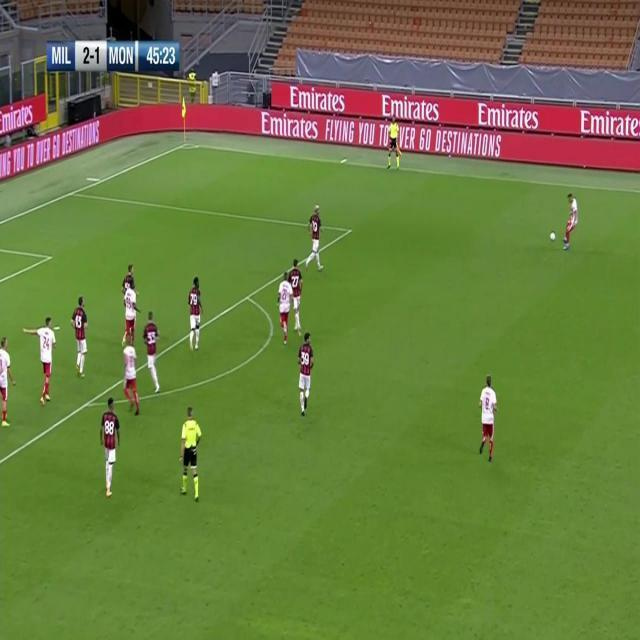ball: (549, 228, 557, 243)
player: (25, 314, 59, 408), (178, 403, 202, 503), (100, 397, 122, 501), (476, 373, 498, 464), (143, 312, 163, 395), (70, 295, 89, 382), (297, 330, 315, 420), (304, 203, 325, 275), (122, 341, 141, 416), (0, 335, 15, 429), (187, 275, 204, 355), (122, 276, 140, 345), (276, 272, 292, 345), (561, 191, 580, 251), (290, 259, 305, 330), (123, 261, 139, 289)
referee: (385, 116, 402, 174)
